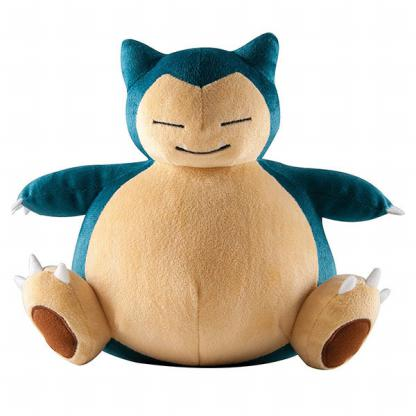Snorlax: (1, 28, 414, 396)
